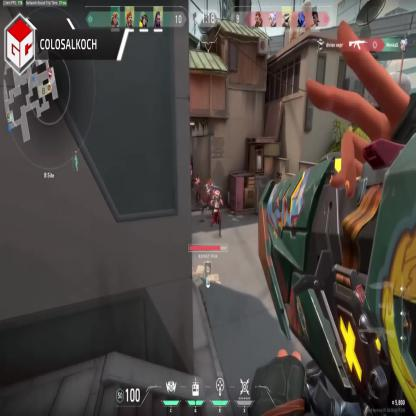enemy: (209, 187, 225, 236), (202, 177, 215, 214), (194, 172, 202, 206), (188, 163, 192, 186)
enemy_head: (215, 190, 219, 198), (207, 179, 212, 185), (196, 174, 199, 180), (190, 165, 192, 170)
